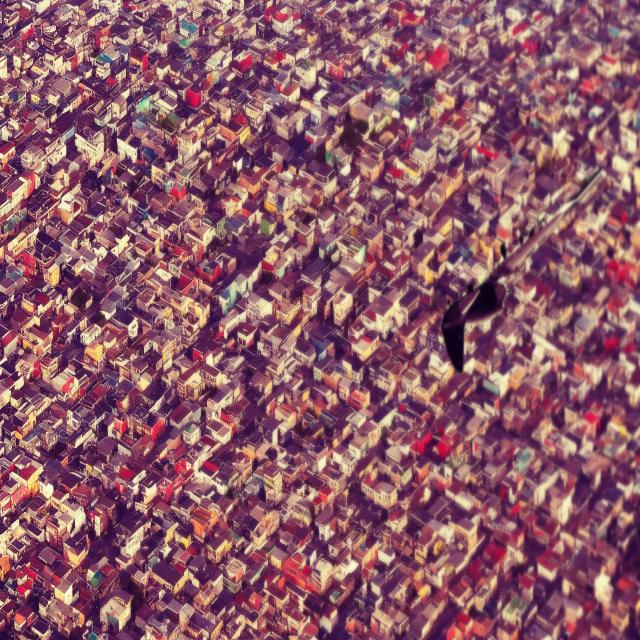airplane: (440, 164, 603, 373)
